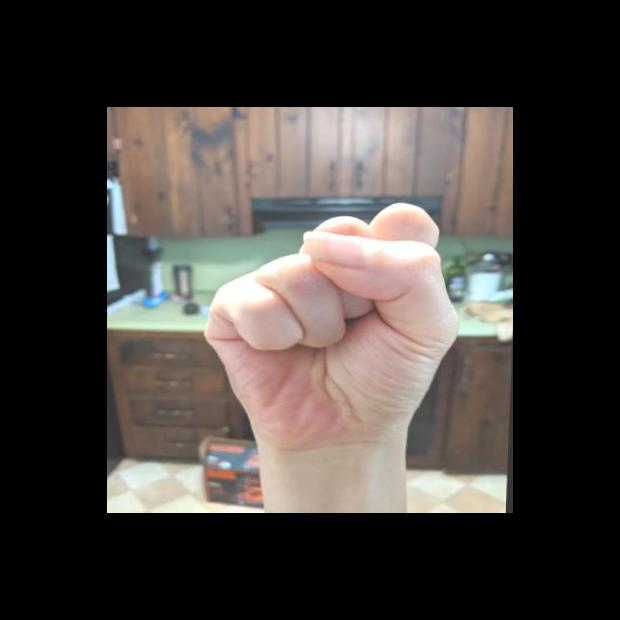R: (195, 195, 469, 465)
